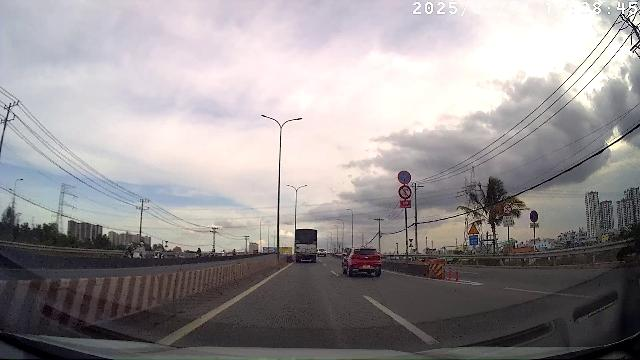130-cam-dung-va-do-xe: (397, 170, 412, 184), (529, 210, 539, 222)
